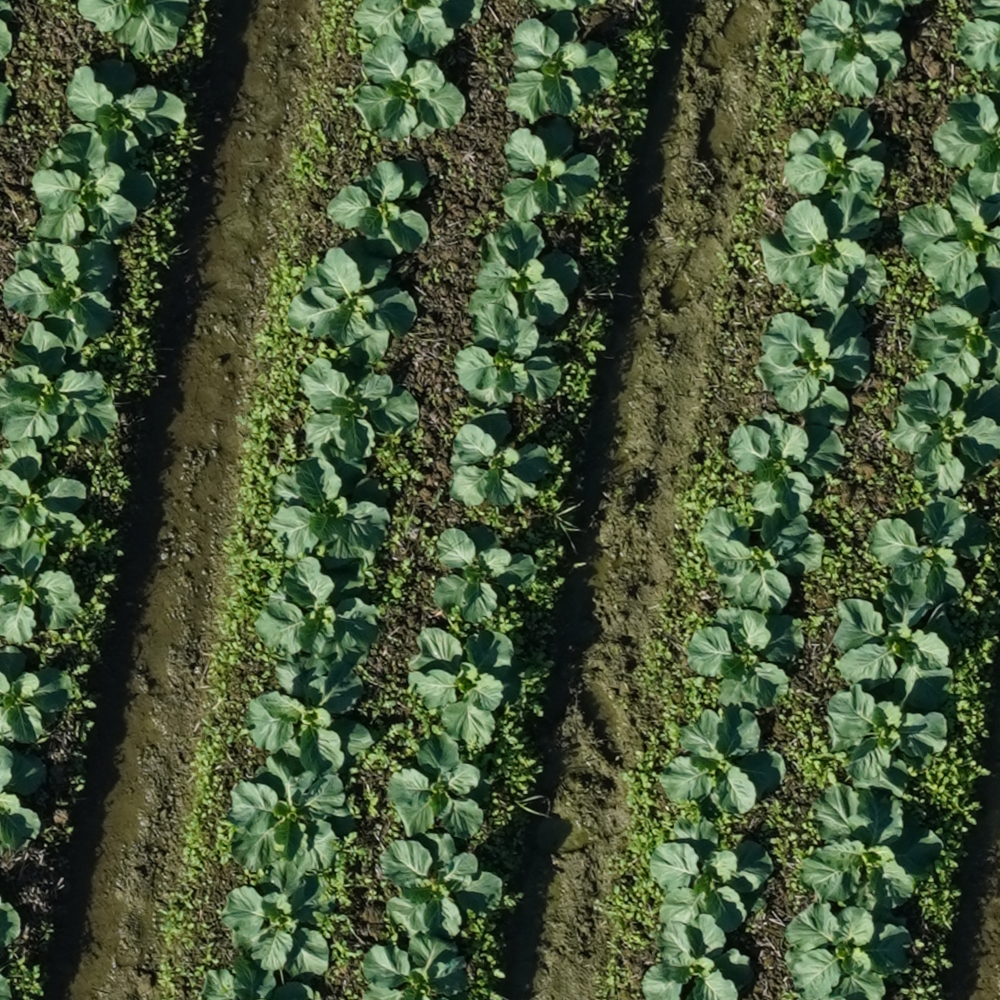Cabbage: (355, 0, 484, 999), (799, 762, 945, 915), (287, 237, 418, 367), (268, 442, 390, 580), (245, 655, 375, 776), (759, 188, 887, 308), (33, 122, 155, 247), (825, 664, 951, 784), (0, 322, 119, 448), (229, 751, 350, 873), (253, 554, 383, 667), (695, 508, 825, 619), (755, 303, 873, 425), (649, 820, 773, 935), (659, 705, 785, 817), (377, 832, 503, 944), (726, 409, 847, 521), (220, 858, 330, 981), (832, 587, 959, 693), (889, 372, 1000, 493), (67, 57, 187, 168), (4, 239, 118, 355), (407, 627, 514, 750), (867, 499, 987, 608), (505, 10, 617, 125), (785, 900, 913, 1000), (683, 603, 803, 709), (353, 35, 468, 145), (299, 356, 418, 461), (471, 218, 582, 330), (455, 301, 569, 410), (898, 183, 1000, 297), (798, 0, 908, 105), (385, 730, 487, 840), (502, 115, 603, 223), (910, 272, 1000, 392), (324, 159, 429, 259), (449, 409, 550, 511), (432, 526, 534, 626), (784, 107, 887, 206), (642, 912, 753, 1000), (0, 438, 87, 549), (0, 540, 81, 644), (931, 91, 1000, 202), (78, 0, 195, 60), (0, 645, 70, 744), (199, 955, 322, 1000), (0, 741, 47, 856), (952, 0, 1000, 84)
